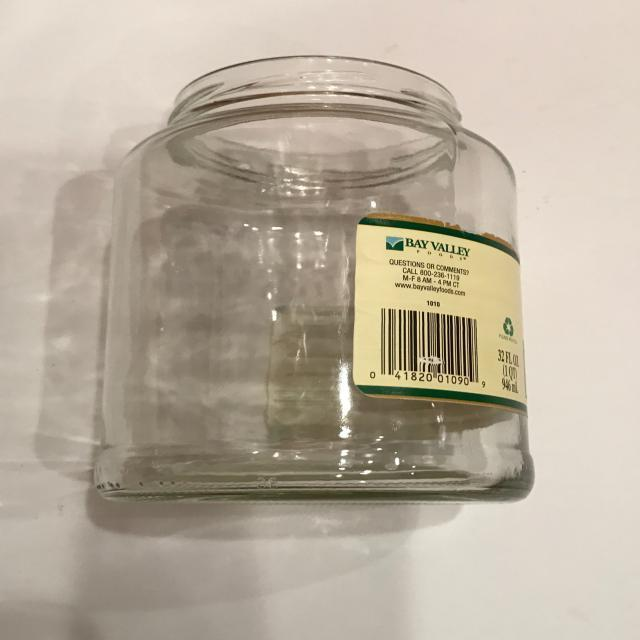glass: (92, 53, 535, 501)
